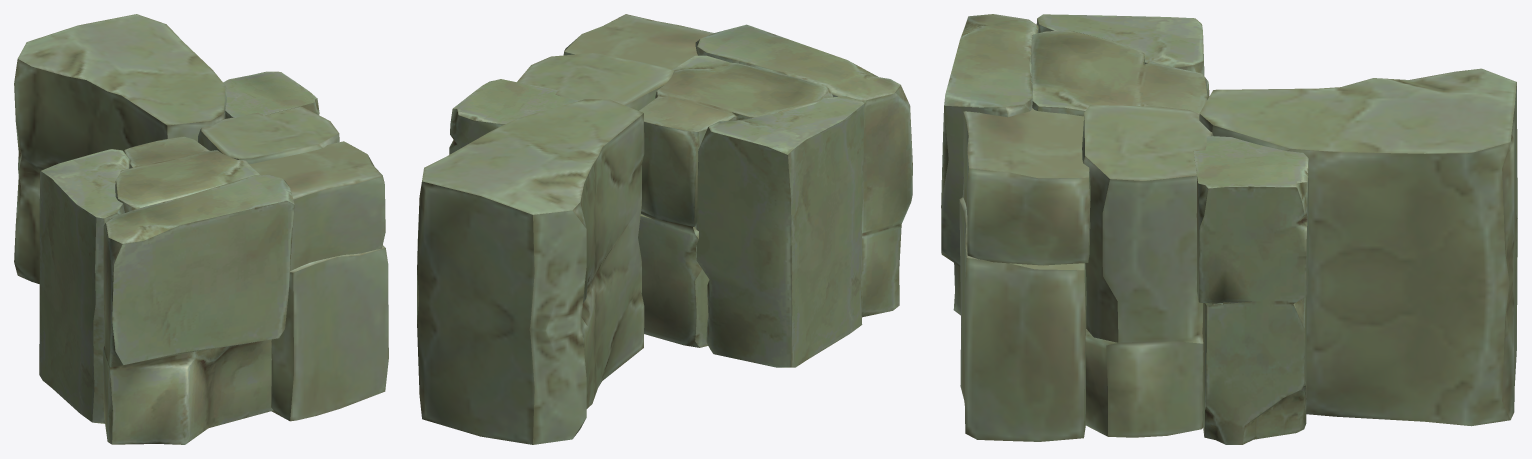
The model's file is Ruins_Wall_DMG_Edge_Right_A.fbx.
3 renders of one model, left to right at view 1: azimuth 30°, elevation 25°; view 2: azimuth 150°, elevation 25°; view 3: azimuth 270°, elevation 25°, orthographic. The views are drawn at different scales.
Visible parts, largest first — view 1: Ruins_Wall_DMG_Edge_Right_A; view 2: Ruins_Wall_DMG_Edge_Right_A; view 3: Ruins_Wall_DMG_Edge_Right_A.
Boxes of the visible parts, x1=… form: Ruins_Wall_DMG_Edge_Right_A: x1=14, y1=14, x2=388, y2=444; Ruins_Wall_DMG_Edge_Right_A: x1=417, y1=14, x2=912, y2=444; Ruins_Wall_DMG_Edge_Right_A: x1=941, y1=14, x2=1517, y2=444.
Bounding box in the file's own units: 396 × 290 × 529.
